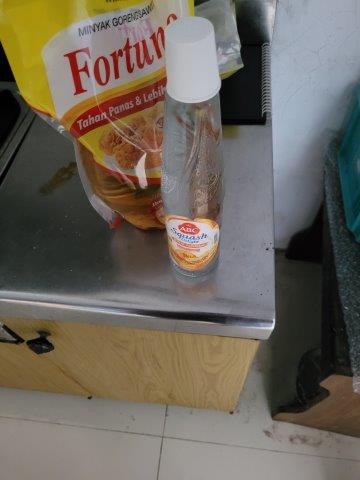botolkaca: (161, 17, 224, 282)
